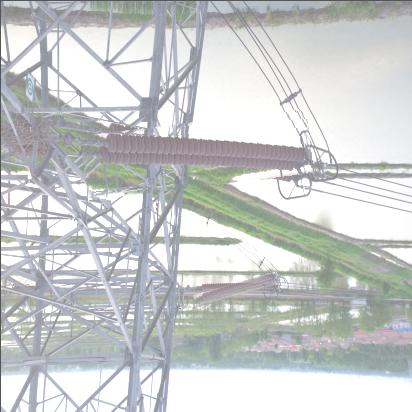insulator: (81, 115, 312, 194), (193, 277, 281, 302)
